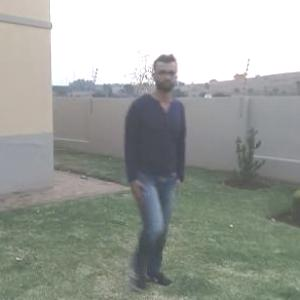follow: (96, 48, 187, 295)
